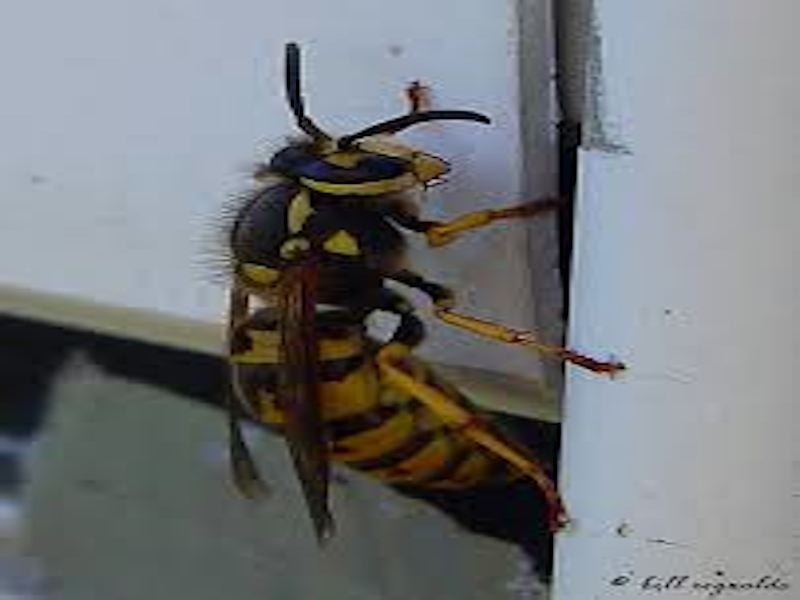chax: (215, 34, 638, 559)
